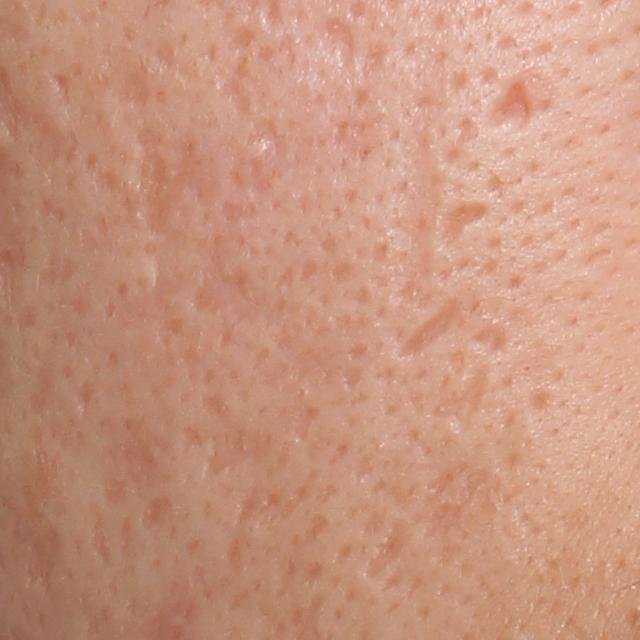atrophic_scar: (81, 125, 180, 249), (9, 453, 69, 604), (194, 253, 262, 350), (200, 425, 295, 482), (389, 294, 463, 363), (246, 115, 296, 193), (440, 365, 491, 430), (24, 111, 79, 169), (360, 521, 405, 584), (214, 55, 255, 124), (483, 76, 532, 131), (324, 15, 363, 81), (441, 198, 492, 248), (103, 64, 151, 112), (469, 321, 518, 363), (84, 510, 117, 571), (25, 362, 57, 421), (235, 483, 267, 530), (139, 494, 176, 533), (98, 475, 134, 508), (222, 533, 249, 577), (362, 39, 394, 76), (222, 25, 263, 49), (45, 68, 72, 104), (76, 377, 97, 412)
